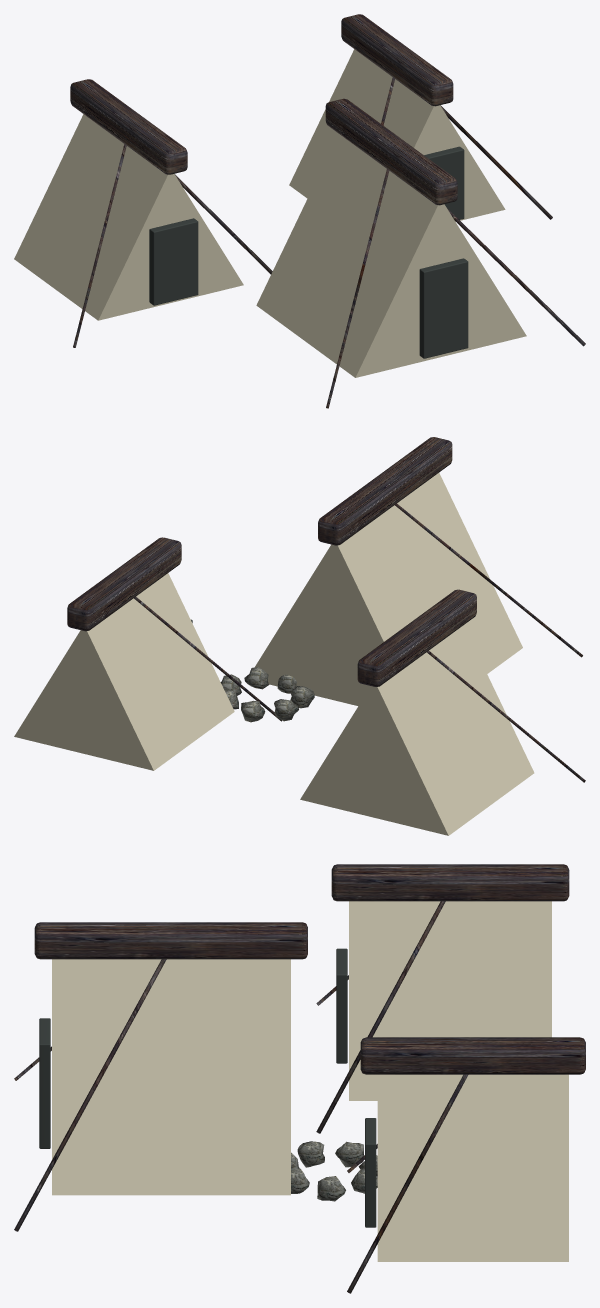
File: env-site-refugeeCamp.glb
3 views of the same model, one above another, from view 1: azimuth 30°, elevation 25°; view 2: azimuth 150°, elevation 25°; view 3: azimuth 270°, elevation 25° (orthographic). The views are drawn at different scales.
Parts seen in each view (by area): view 1: site refugeeCamp · authored textured miniature; view 2: site refugeeCamp · authored textured miniature; view 3: site refugeeCamp · authored textured miniature.
Part boxes in pixels (<box>): site refugeeCamp · authored textured miniature: <box>14,14,585,408</box>; site refugeeCamp · authored textured miniature: <box>14,437,585,835</box>; site refugeeCamp · authored textured miniature: <box>14,864,585,1293</box>.
Bounding box in the file's own units: 1.21 × 0.445 × 1.
Materials: 4 (2 with a texture image).
